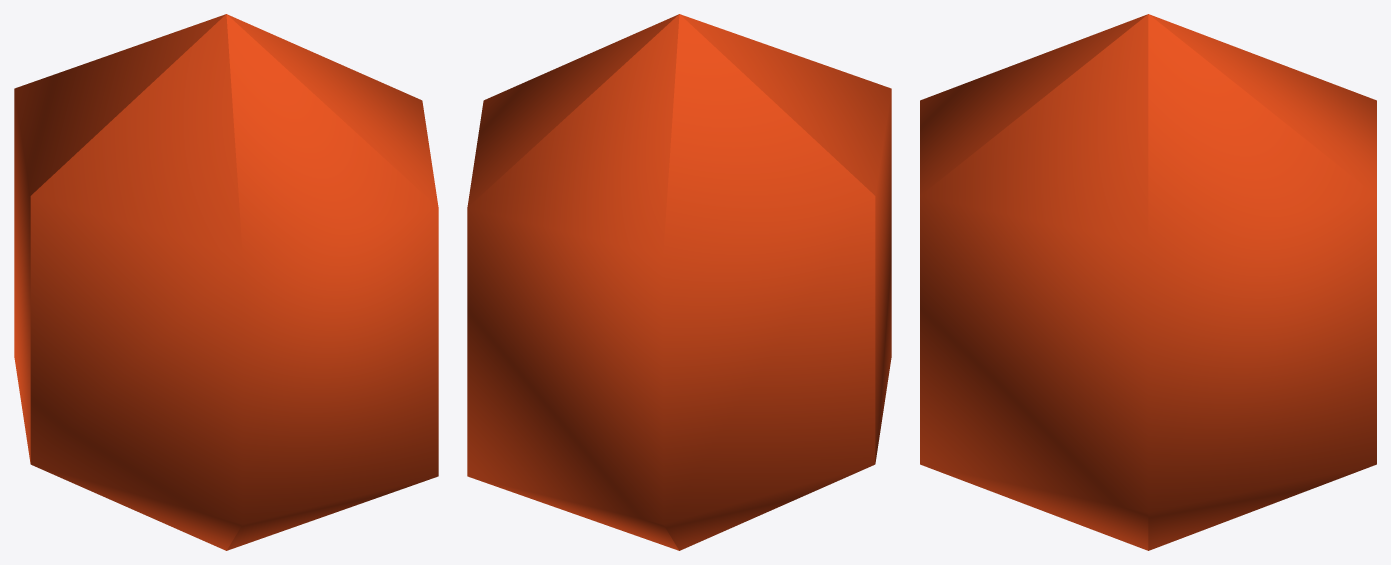
The model's file is WorldItem_ClownNose.fbx.
3 renders of one model, left to right at view 1: azimuth 30°, elevation 25°; view 2: azimuth 150°, elevation 25°; view 3: azimuth 270°, elevation 25°, orthographic.
Visible parts, largest first — view 1: .000; view 2: .000; view 3: .000.
Boxes of the visible parts, left/top/right/bottom form: .000: left=14, top=14, right=438, bottom=550; .000: left=467, top=14, right=891, bottom=550; .000: left=920, top=14, right=1376, bottom=550.
Size of the model in its own units: 0.0365 by 0.0479 by 0.0369.
